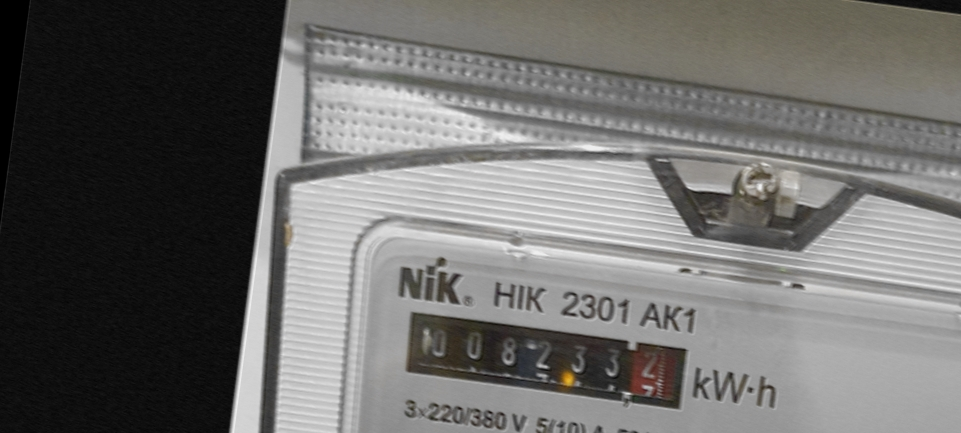0: (427, 324, 452, 359), (463, 328, 486, 361)
2: (532, 336, 556, 371), (640, 347, 661, 380)
3: (568, 341, 590, 374), (604, 344, 624, 378)
8: (499, 333, 520, 366)
screen: (392, 298, 701, 419)
